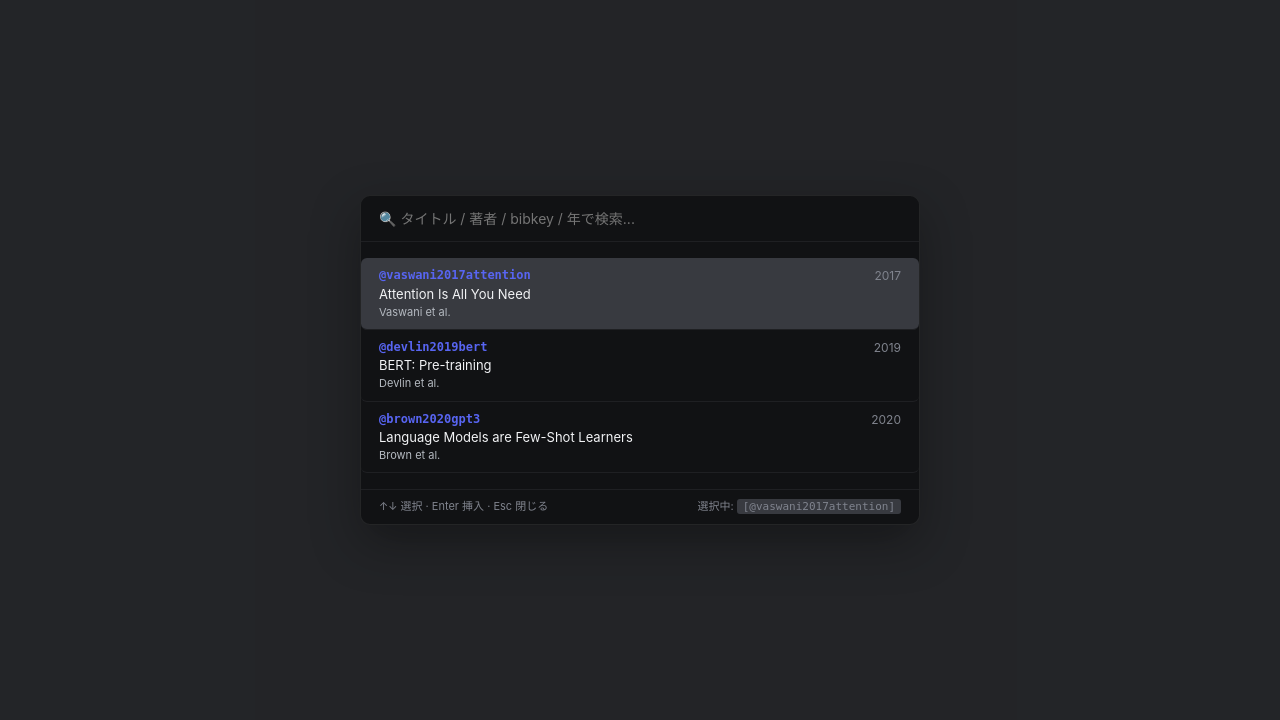
Test: CitationPicker › shows empty state when no items match
The image size is (1280, 720).
Expected: the text "Attention Is All You Need" is shown, [379, 286, 531, 302]
Type "xyznonexistent" into the field with placeholder "🔍 タイトル / 著者 / bibkey / 年で検索..." at (640, 219), box [361, 196, 919, 242]
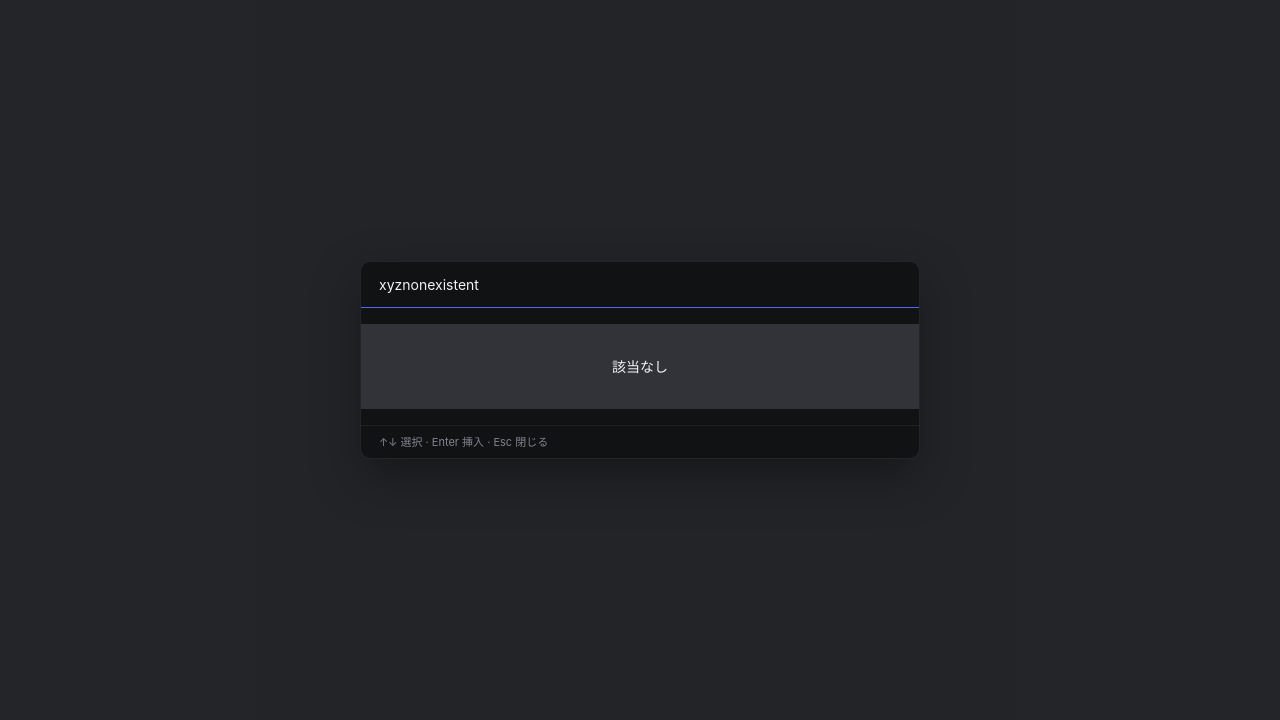
Expected: the text "該当なし" is shown, [361, 324, 919, 409]
